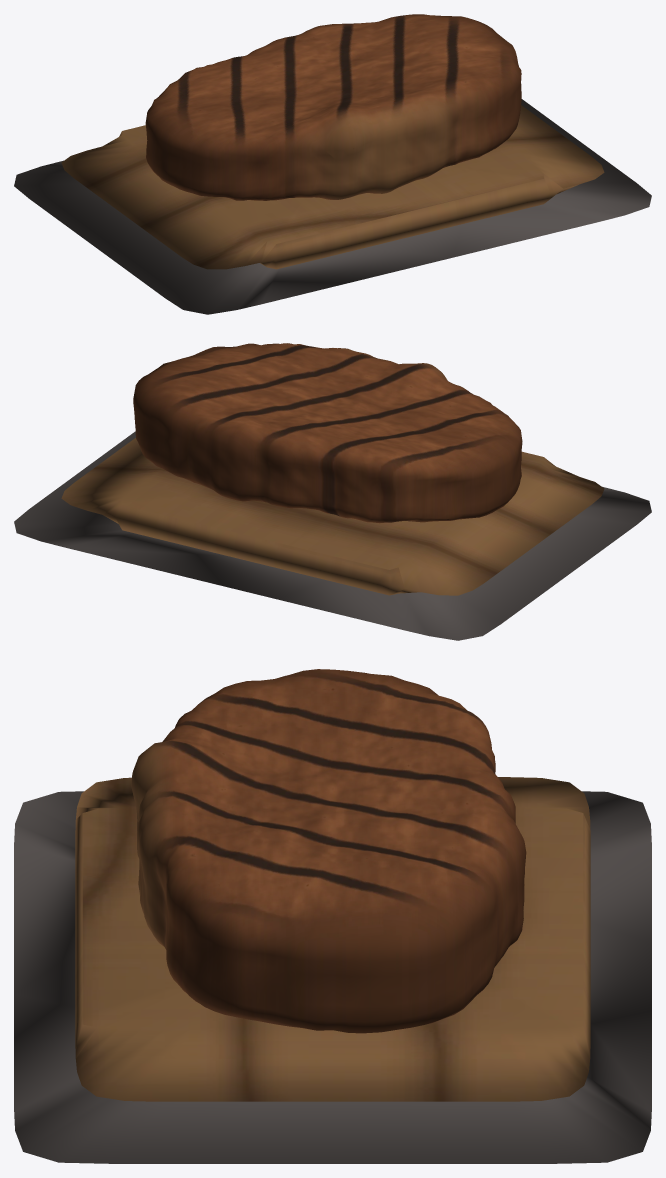
File: bife-de-chorizo.glb
The picture shows the model from 3 angles, top to bottom: view 1: azimuth 30°, elevation 25°; view 2: azimuth 150°, elevation 25°; view 3: azimuth 270°, elevation 25°; orthographic projection. The views are drawn at different scales.
Visible parts, largest first — view 1: Bife, Tabla, Base; view 2: Bife, Tabla, Base; view 3: Bife, Tabla, Base.
Part boxes in pixels (x1=…): Bife: x1=145, y1=14, x2=521, y2=200; Tabla: x1=61, y1=105, x2=604, y2=269; Base: x1=14, y1=99, x2=651, y2=314; Bife: x1=133, y1=343, x2=522, y2=523; Tabla: x1=61, y1=438, x2=604, y2=595; Base: x1=14, y1=431, x2=651, y2=640; Bife: x1=131, y1=669, x2=526, y2=1033; Tabla: x1=75, y1=777, x2=590, y2=1101; Base: x1=14, y1=791, x2=651, y2=1163.
Bounding box in the file's own units: 2.16 × 0.5981 × 1.56.
Materials: 3 (2 with a texture image).
